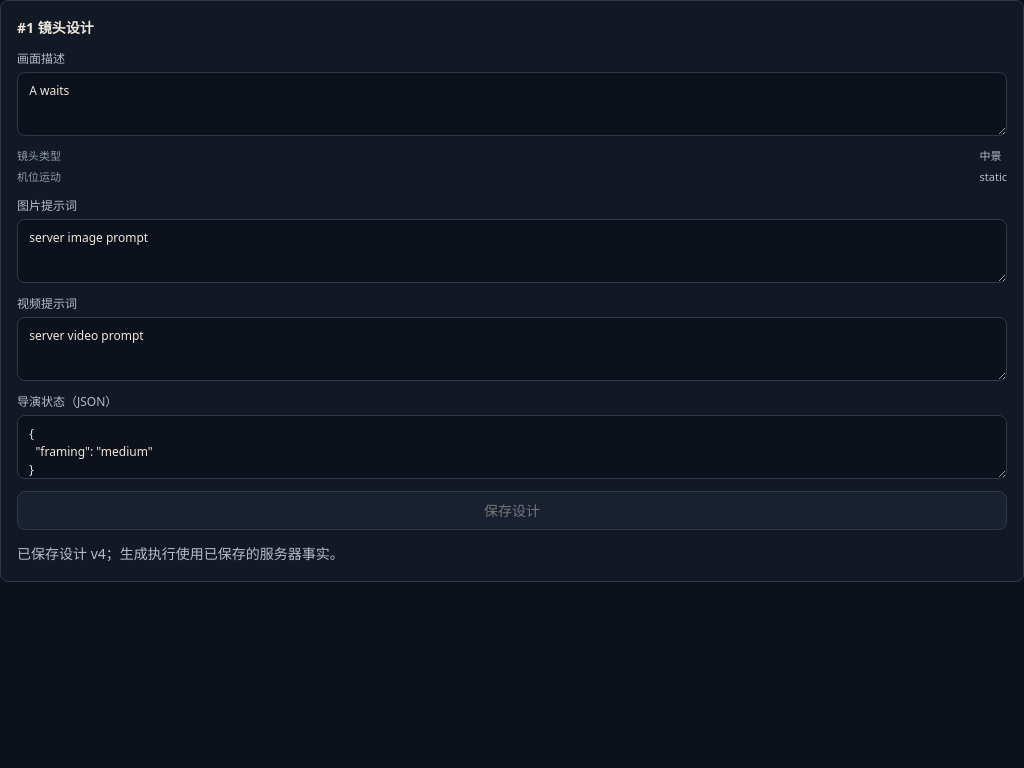
Scenario: ShotDesignPanel save feedback › distinguishes an unsaved draft from the saved server version
Step 1. Replace the text in the text box labelled "图片提示词" with "local draft prompt" → (512, 251), box left=17, top=219, right=1007, bottom=283
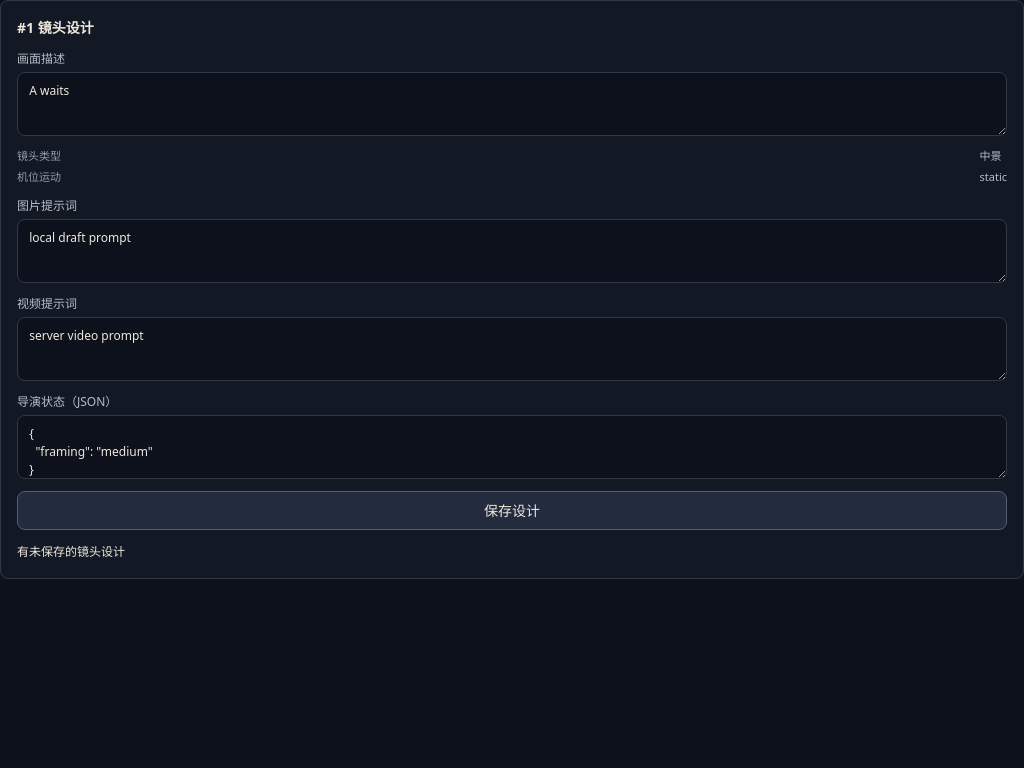
Expected: the message "有未保存的镜头设计" is shown, left=17, top=543, right=125, bottom=560
